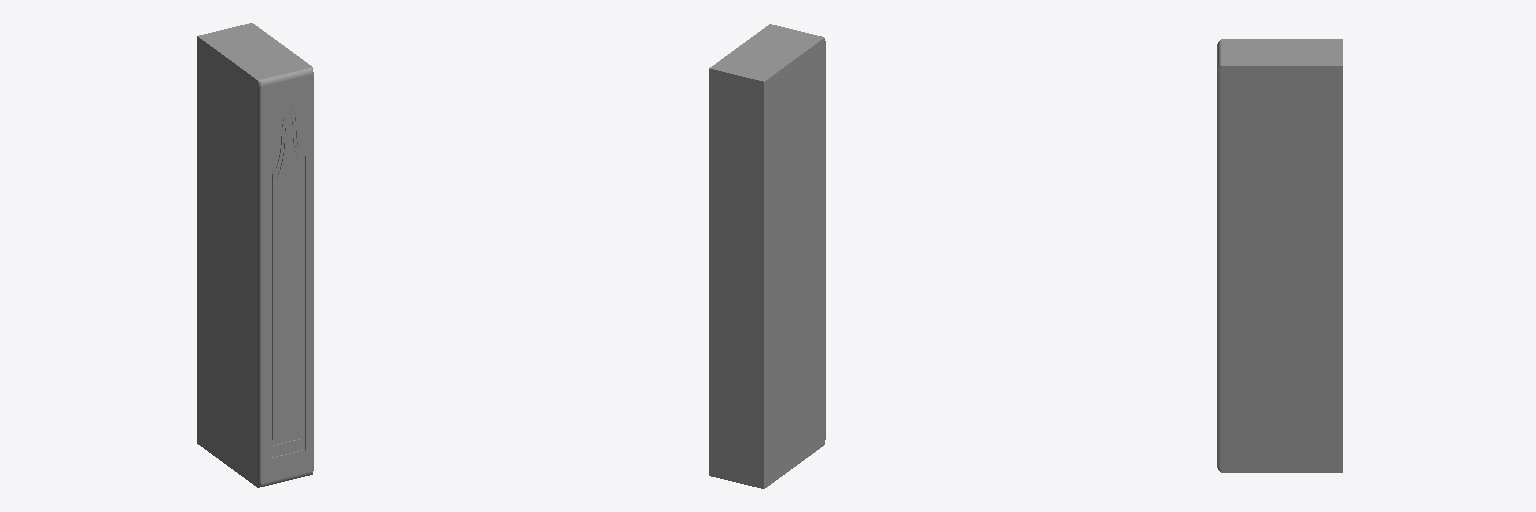
The model's file is larder-unit-300.obj.
The picture shows the model from 3 angles: view 1: azimuth 30°, elevation 25°; view 2: azimuth 150°, elevation 25°; view 3: azimuth 270°, elevation 25°; orthographic projection.
Parts seen in each view (by area): view 1: Cube.002_Cube.004, Cube.003_Cube.008, Cube_Cube.002; view 2: Cube.002_Cube.004, Cube_Cube.002, Cube.001_Cube.003; view 3: Cube.001_Cube.003, Cube_Cube.002, Cube.003_Cube.008.
Boxes of the visible parts, x1,y1,x2,y2 form: Cube.002_Cube.004: [197, 35, 259, 487]; Cube.003_Cube.008: [258, 67, 313, 487]; Cube_Cube.002: [200, 23, 309, 79]; Cube.002_Cube.004: [762, 37, 824, 488]; Cube_Cube.002: [712, 25, 820, 488]; Cube.001_Cube.003: [709, 24, 770, 476]; Cube.001_Cube.003: [1222, 64, 1342, 472]; Cube_Cube.002: [1222, 40, 1342, 63]; Cube.003_Cube.008: [1217, 39, 1221, 472].
Bounding box in the file's own units: 60 × 424 × 118.